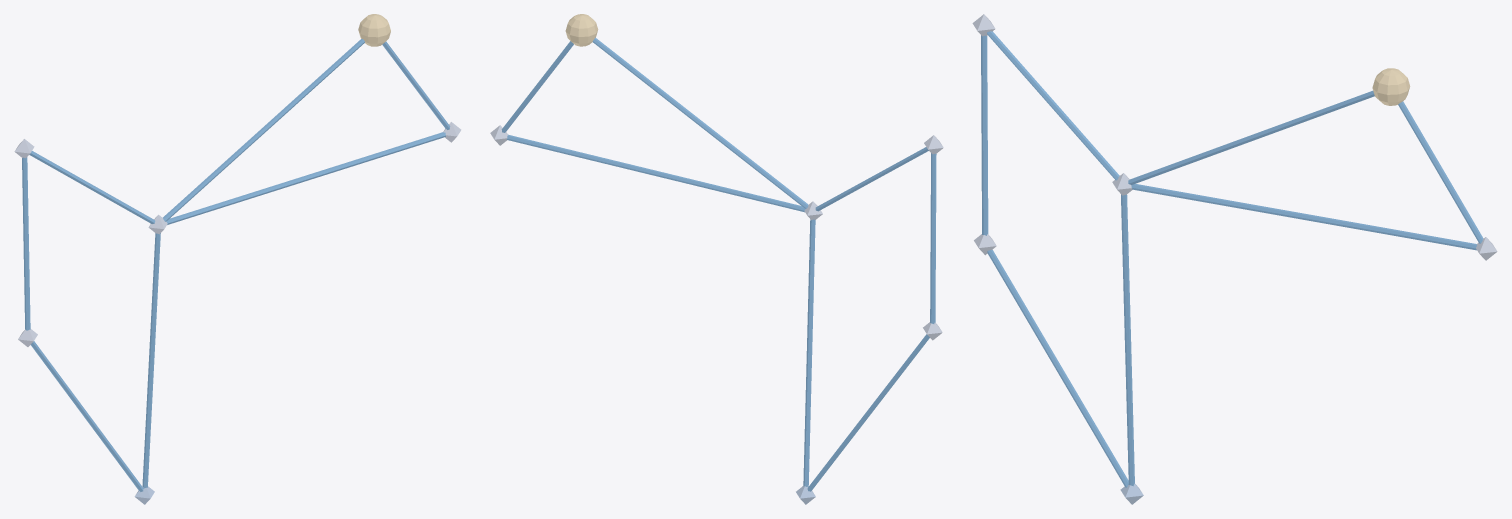
The model's file is constellation-phe.glb.
3 views of the same model, side by side, from view 1: azimuth 30°, elevation 25°; view 2: azimuth 150°, elevation 25°; view 3: azimuth 330°, elevation 25° (orthographic). The views are drawn at different scales.
Size of the model in its own units: 1.53 by 1.41 by 0.1326.
